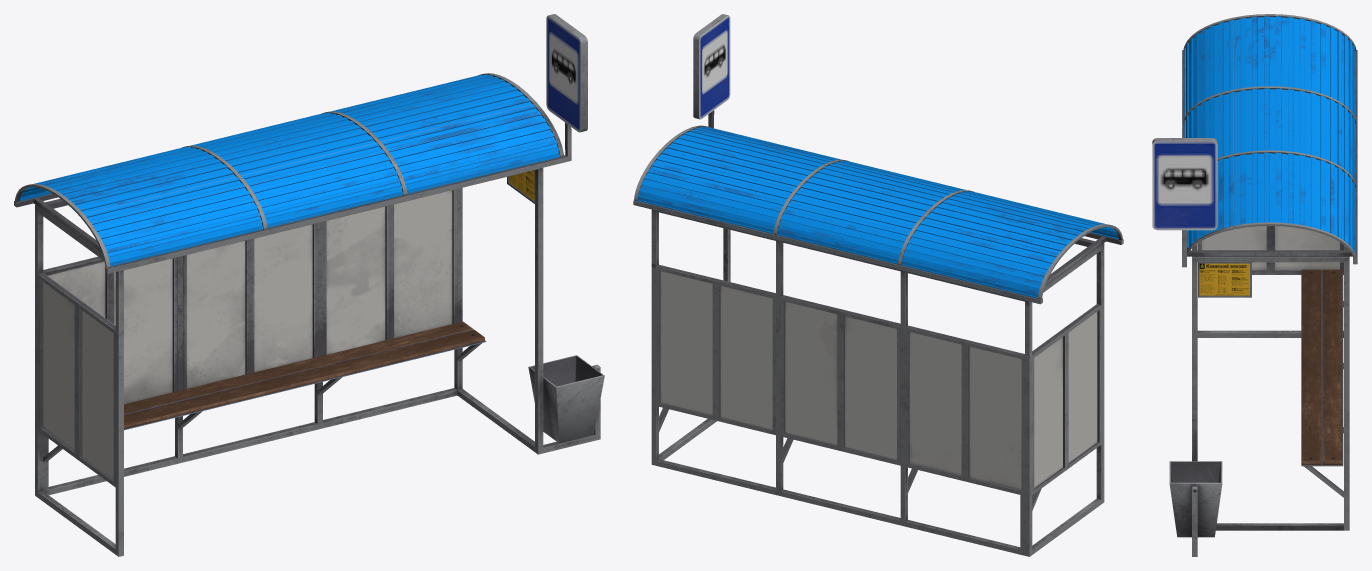
File: outdated_soviet_bus_stop (1).glb
3 renders of one model, left to right at view 1: azimuth 30°, elevation 25°; view 2: azimuth 150°, elevation 25°; view 3: azimuth 270°, elevation 25°, orthographic. The views are drawn at different scales.
Parts seen in each view (by area): view 1: bus_stop; view 2: bus_stop; view 3: bus_stop.
Part boxes in pixels (<box>): bus_stop: <box>14,14,604,556</box>; bus_stop: <box>633,14,1123,556</box>; bus_stop: <box>1152,14,1357,556</box>.
Bounding box in the file's own units: 2.46 × 2.01 × 0.9342.
Materials: 1 (1 with a texture image).
